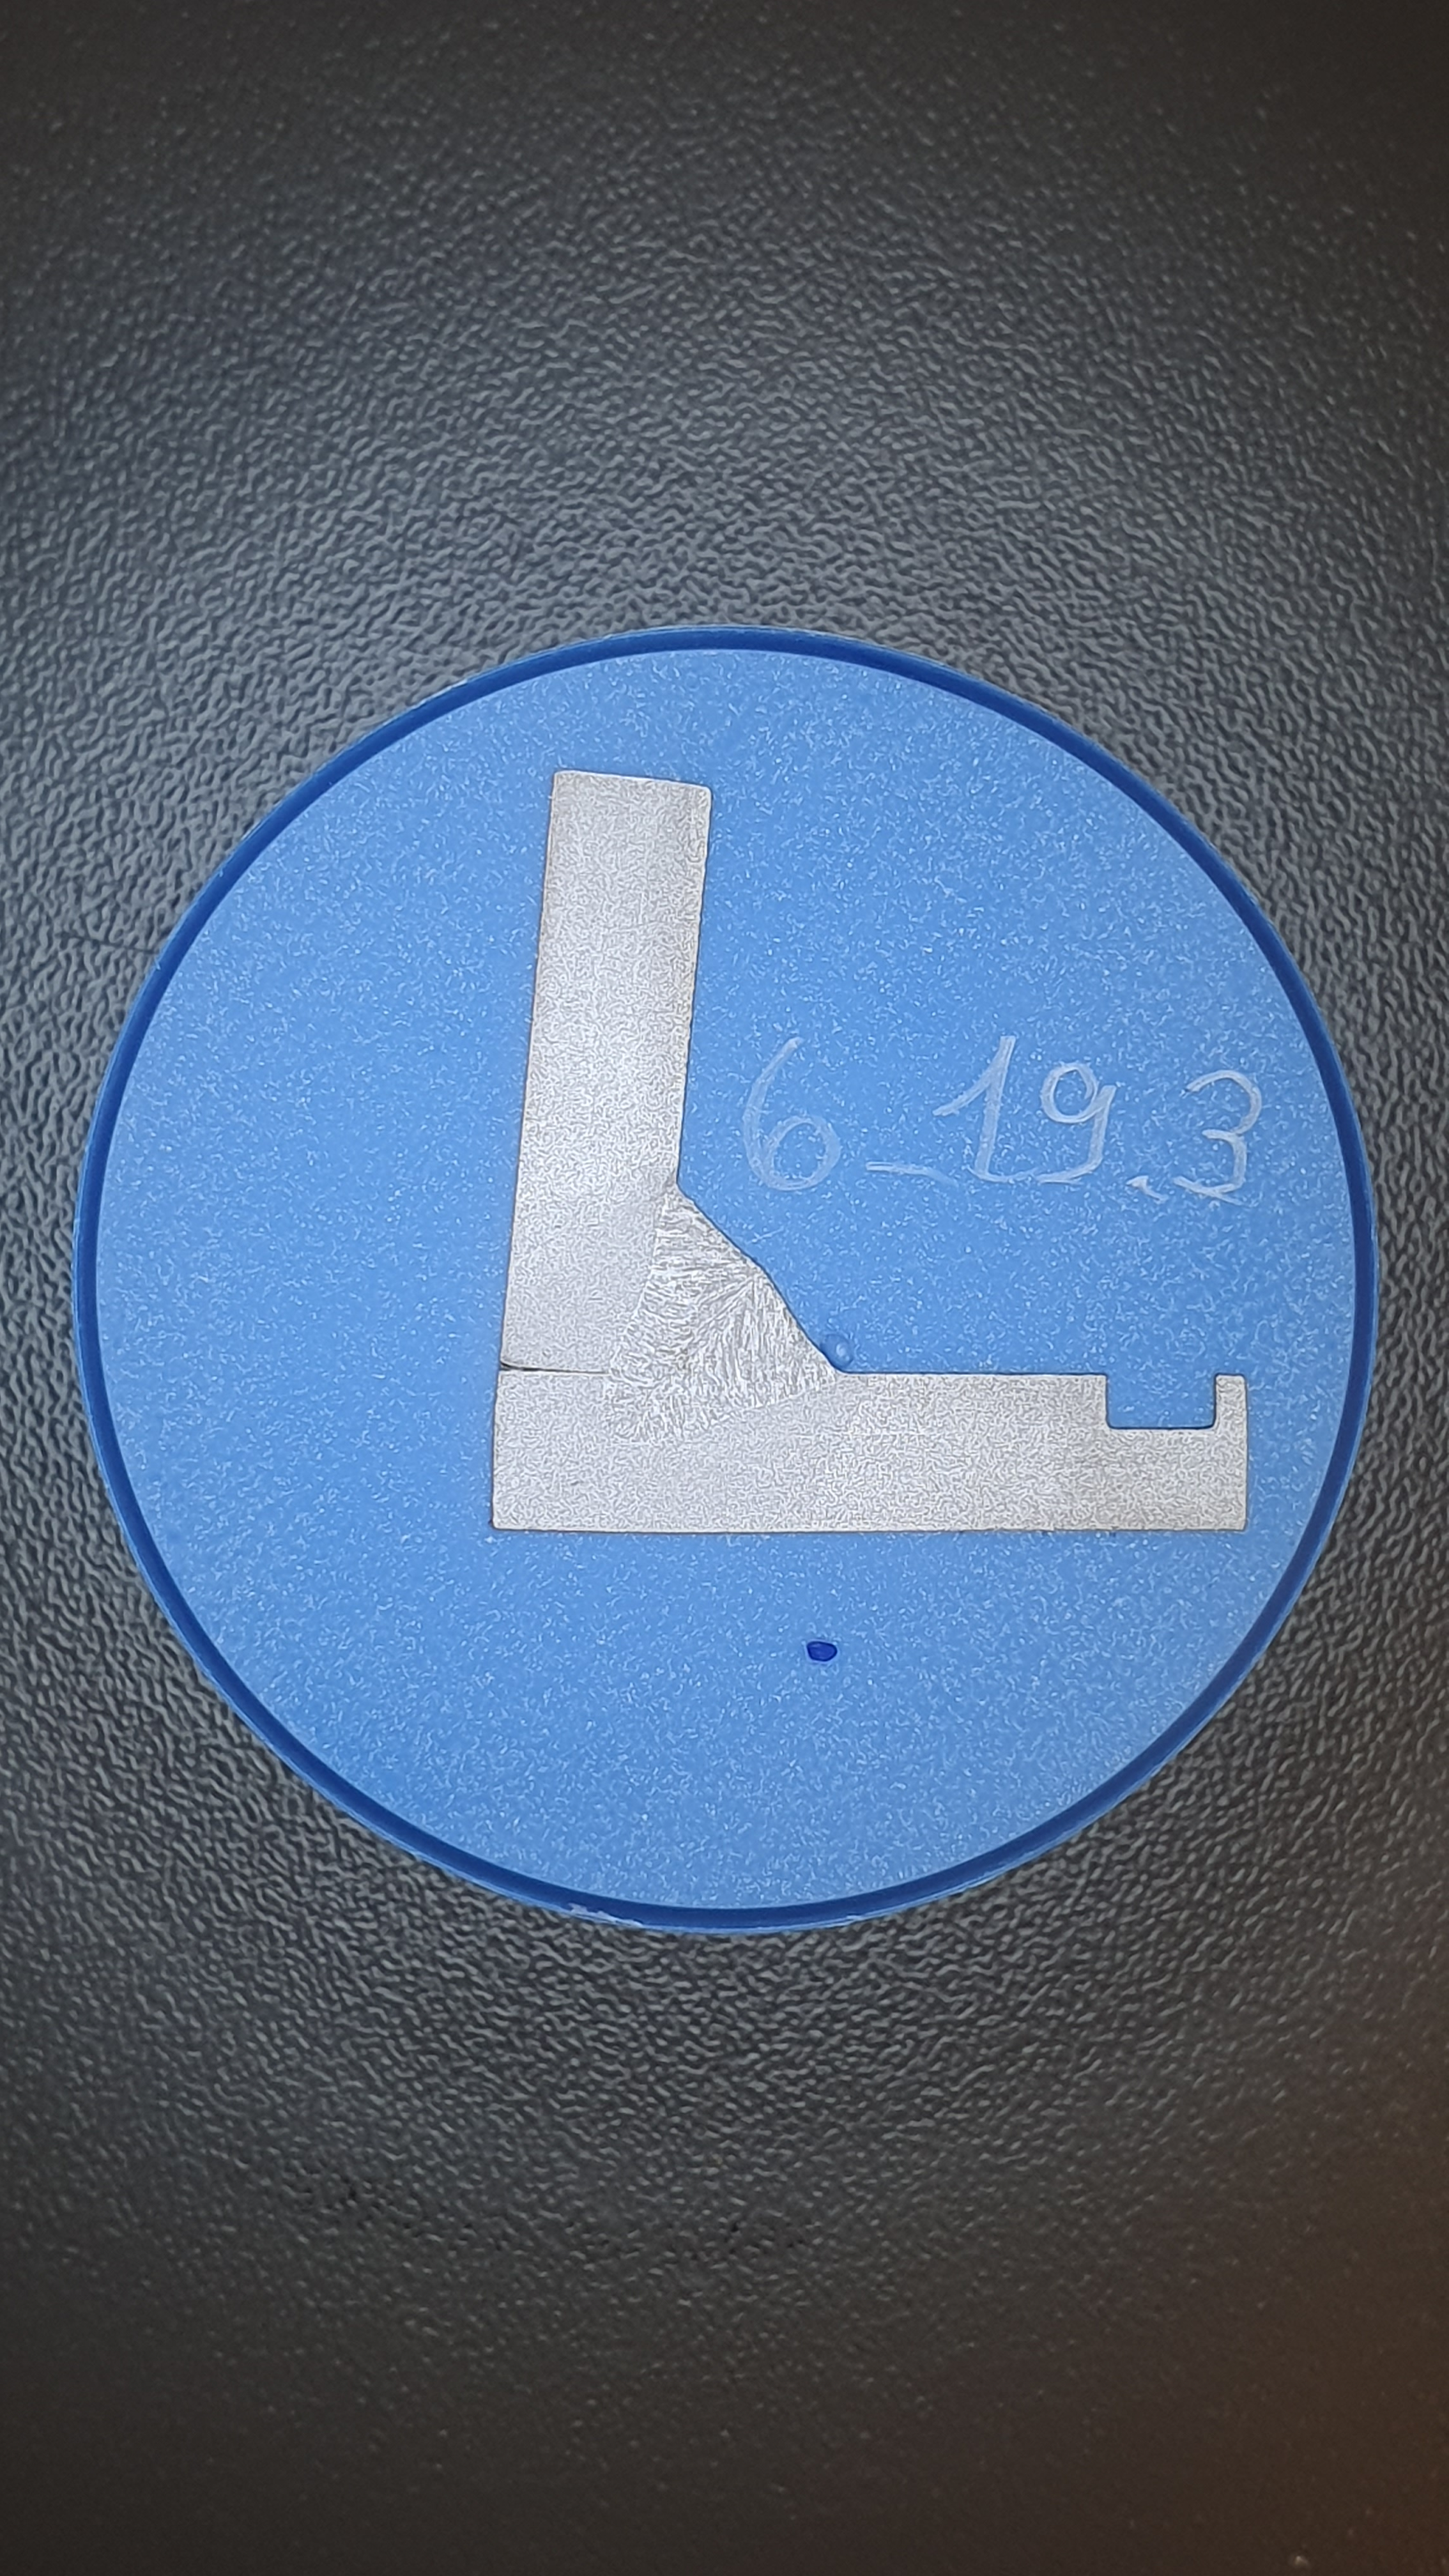Fusion: (596, 1168, 835, 1444)
Hintergrund: (96, 651, 1355, 1907)
Metall: (492, 770, 1247, 1534)
Nebenbereich: (525, 1159, 869, 1518)
